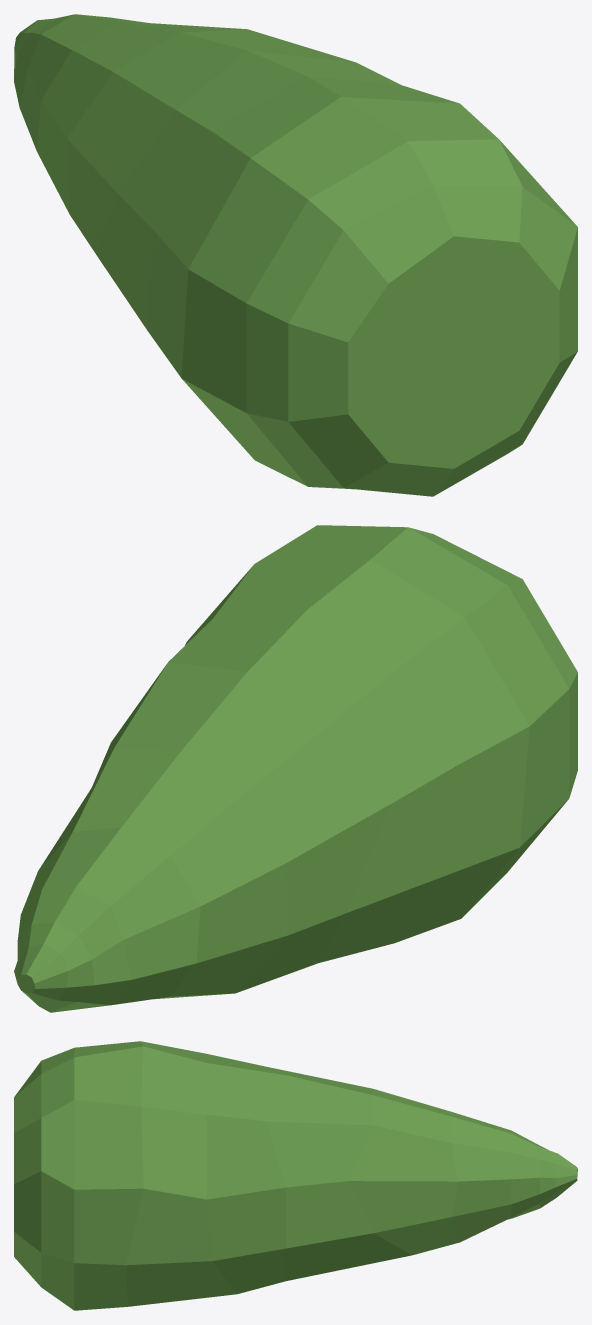
File: Bush_6.fbx
3 renders of one model, top to bottom at view 1: azimuth 30°, elevation 25°; view 2: azimuth 150°, elevation 25°; view 3: azimuth 270°, elevation 25°, orthographic. The views are drawn at different scales.
Visible parts, largest first — view 1: Bush_6; view 2: Bush_6; view 3: Bush_6.
Part boxes in pixels (box(x1,y1,x2,y2)): Bush_6: box(14, 14, 577, 496); Bush_6: box(14, 525, 577, 1012); Bush_6: box(14, 1041, 577, 1310).
Size of the model in its own units: 168 by 176 by 366.
